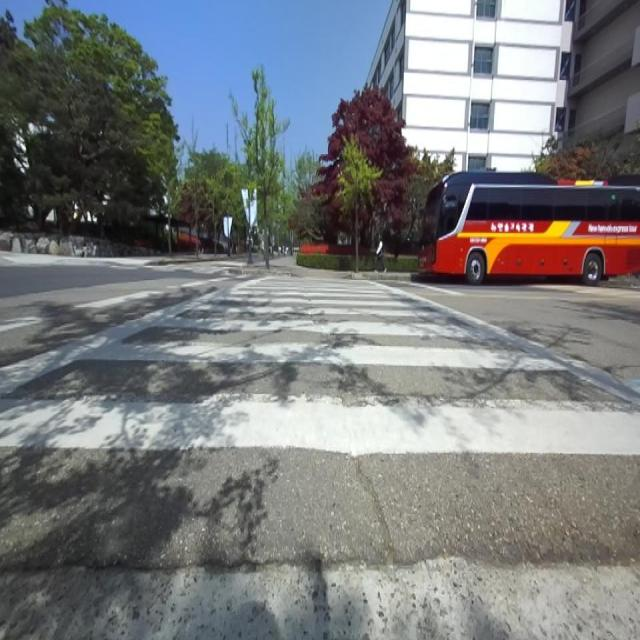sidewalk: (270, 255, 354, 276)
